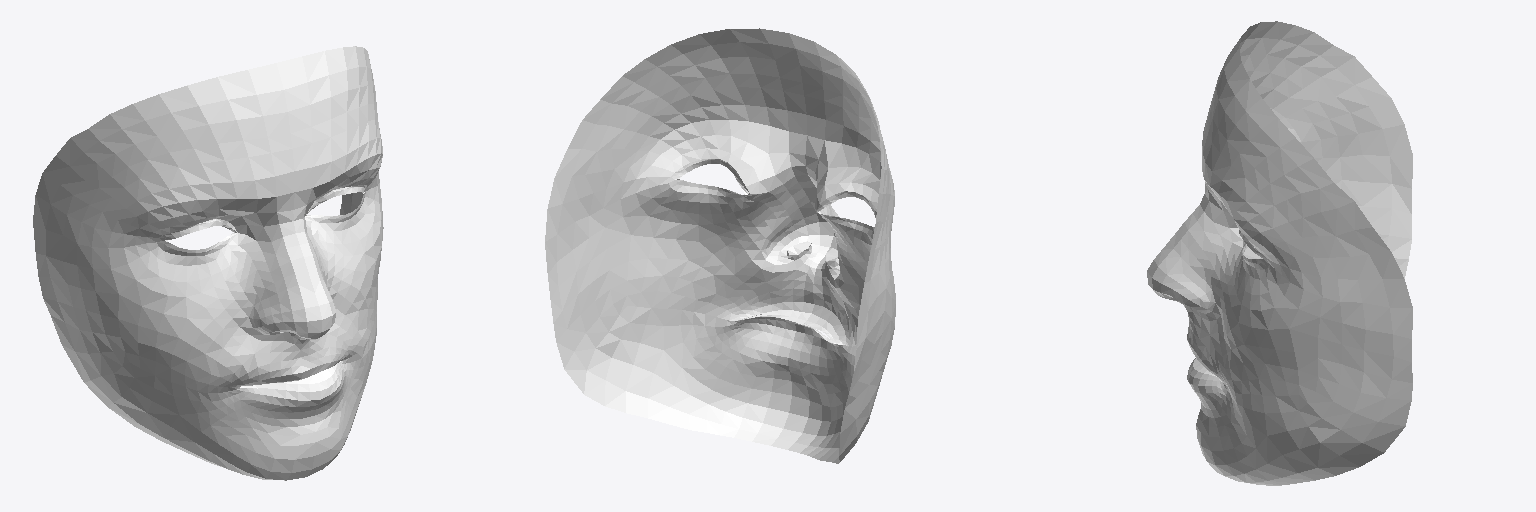
File: jawLeft.obj
3 renders of one model, left to right at view 1: azimuth 30°, elevation 25°; view 2: azimuth 150°, elevation 25°; view 3: azimuth 270°, elevation 25°, orthographic.
Parts seen in each view (by area): view 1: default; view 2: default; view 3: default.
Part boxes in pixels (x1,y1,x2,y2): default: (33, 46, 383, 480); default: (545, 28, 895, 463); default: (1147, 21, 1412, 485).
Bounding box in the file's own units: 0.1447 × 0.1819 × 0.1055.